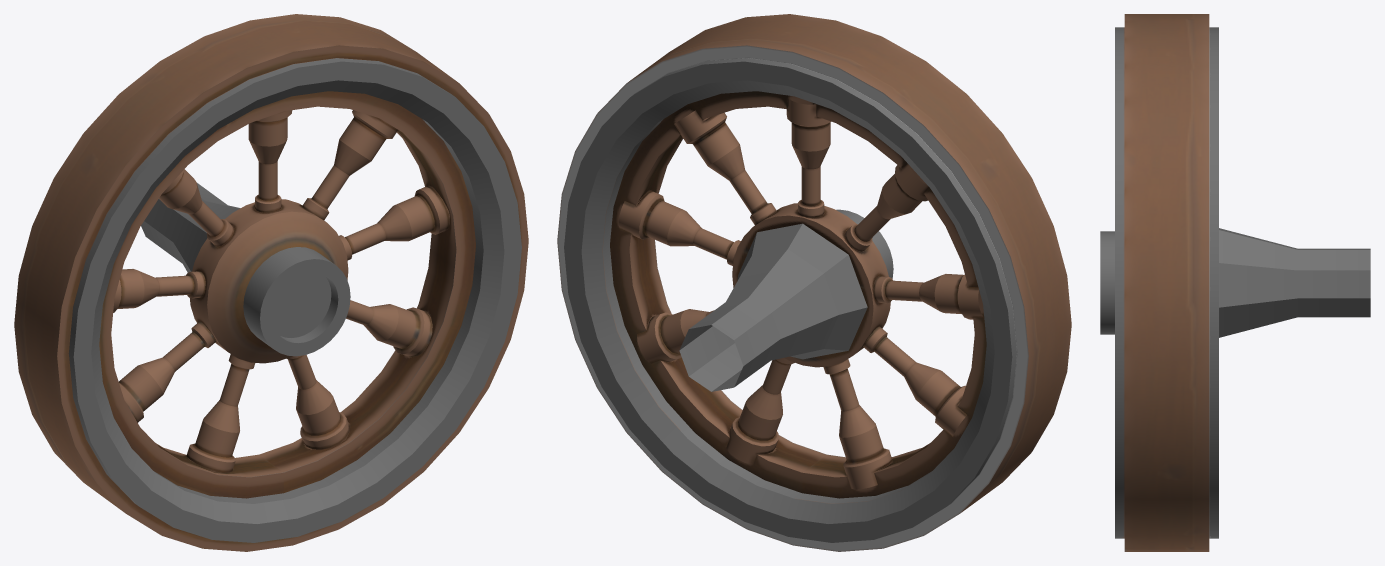
Rendered from Cart Wheel.fbx.
3 views of the same model, side by side, from view 1: azimuth 30°, elevation 25°; view 2: azimuth 150°, elevation 25°; view 3: azimuth 270°, elevation 25° (orthographic).
Visible parts, largest first — view 1: Cylinder.005; view 2: Cylinder.005; view 3: Cylinder.005.
Part boxes in pixels (x1,y1,x2,y2): Cylinder.005: (14,14,528,551); Cylinder.005: (557,14,1071,551); Cylinder.005: (1100,14,1370,551).
Bounding box in the file's own units: 85.86 × 85.86 × 43.15.
1 material, 1 textured.
